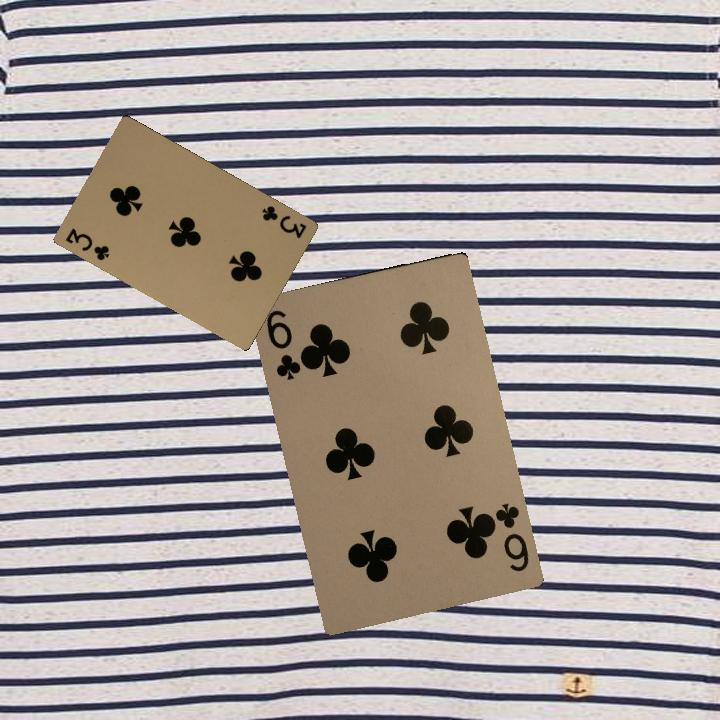3c: (258, 201, 309, 241), (62, 224, 112, 263)
6c: (483, 499, 532, 575), (262, 306, 304, 383)
